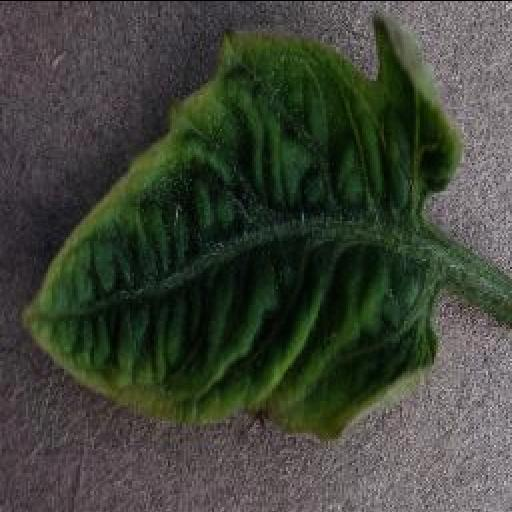disease_tomato: (20, 12, 464, 438)
